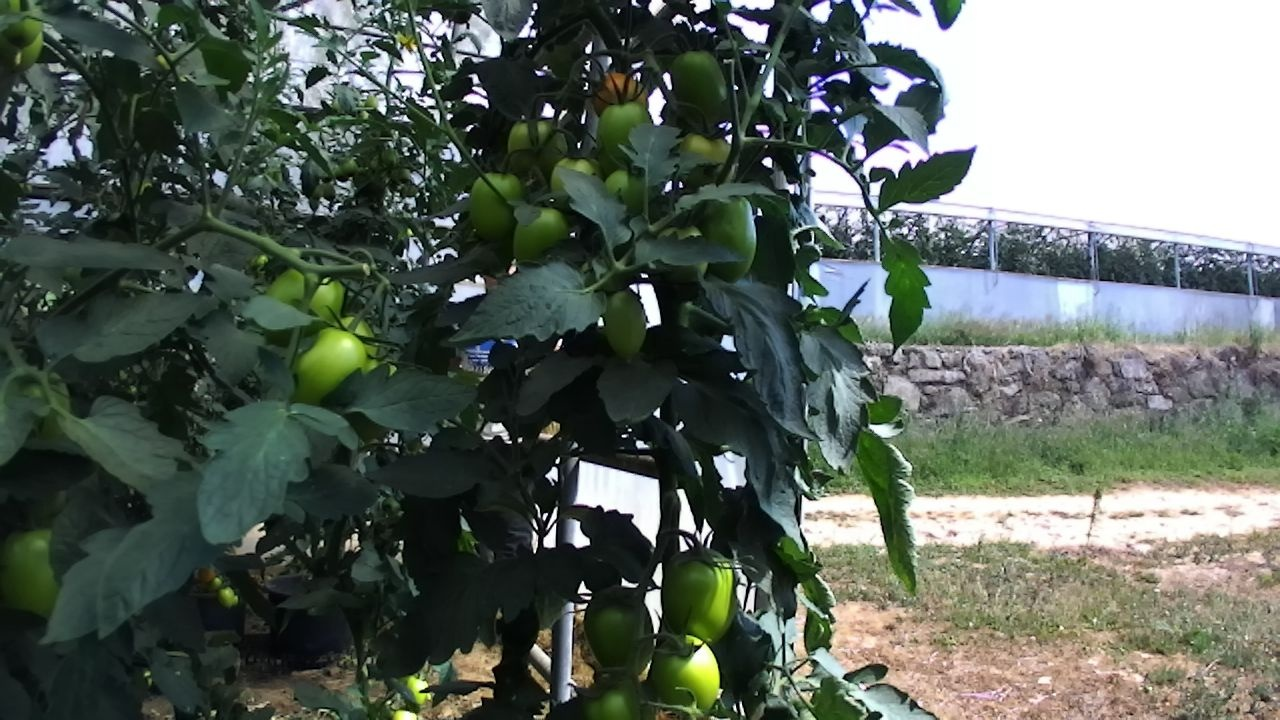tomato: (0, 501, 121, 657), (268, 303, 393, 429), (649, 527, 759, 665), (248, 236, 363, 358), (573, 566, 672, 691), (653, 35, 750, 143), (637, 614, 738, 715), (688, 175, 769, 298), (660, 113, 753, 204), (458, 158, 540, 258), (498, 103, 583, 186), (502, 194, 583, 280), (589, 88, 667, 171), (584, 51, 661, 134), (566, 662, 663, 720), (540, 141, 612, 218), (599, 279, 655, 372), (387, 662, 438, 711), (357, 86, 387, 117), (334, 151, 366, 180), (215, 582, 239, 612), (316, 177, 340, 204)
